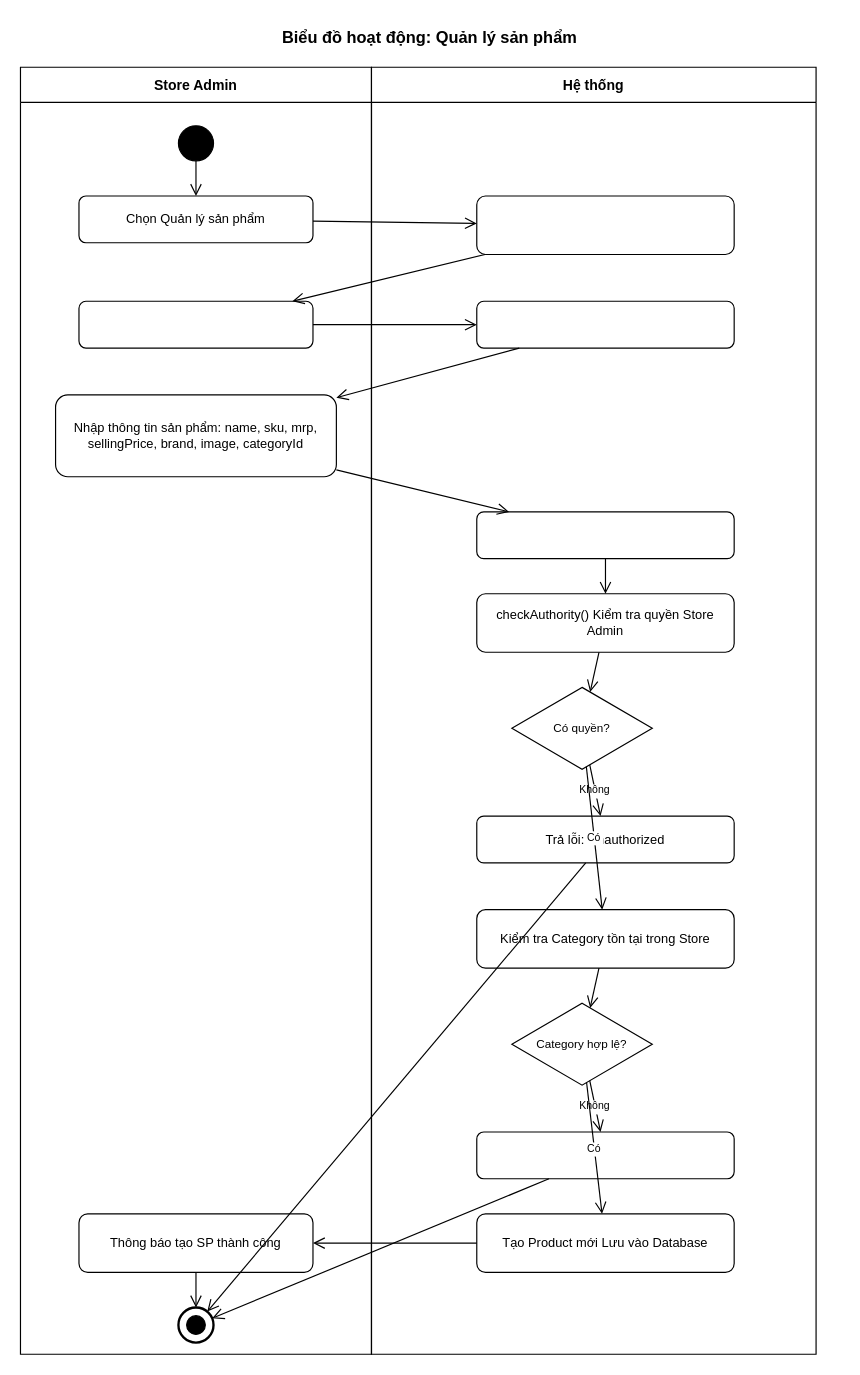
The diagram is 860 pixels wide and 1375 high, and some of its shapes have lost their labels. The centre of each missing label's shape, as x and y in pixels:
"Chọn Tạo sản phẩm mới" goes at point (195, 324).
"Hiển thị danh sách sản phẩm của Store" goes at point (605, 224).
"Hiển thị form tạo sản phẩm" goes at point (605, 324).
"POST /api/products" goes at point (605, 535).
"Trả lỗi: Category not found" goes at point (605, 1155).
